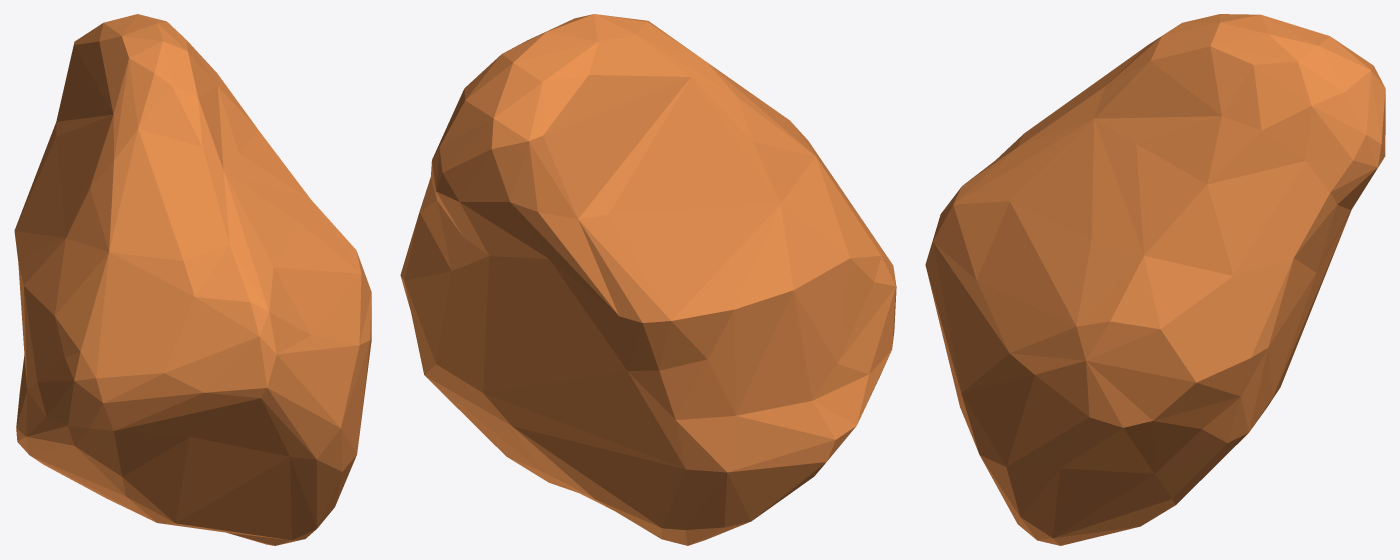
Rendered from Desert_Rock6 (1).fbx.
3 renders of one model, left to right at view 1: azimuth 30°, elevation 25°; view 2: azimuth 150°, elevation 25°; view 3: azimuth 270°, elevation 25°, orthographic. The views are drawn at different scales.
Visible parts, largest first — view 1: Cube; view 2: Cube; view 3: Cube.
Boxes of the visible parts, x1,y1,x2,y2 form: Cube: (14,14,371,545); Cube: (400,14,896,545); Cube: (925,14,1385,545).
Size of the model in its own units: 143 by 186 by 155.
